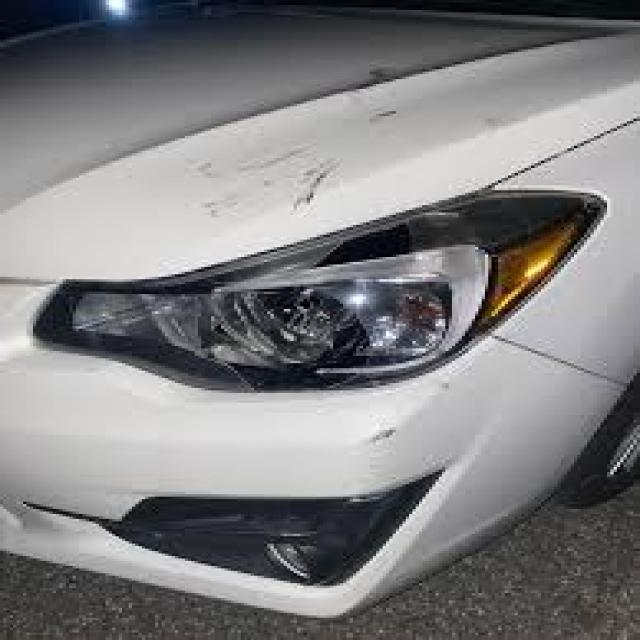damaged-head-light: (53, 198, 580, 388)
